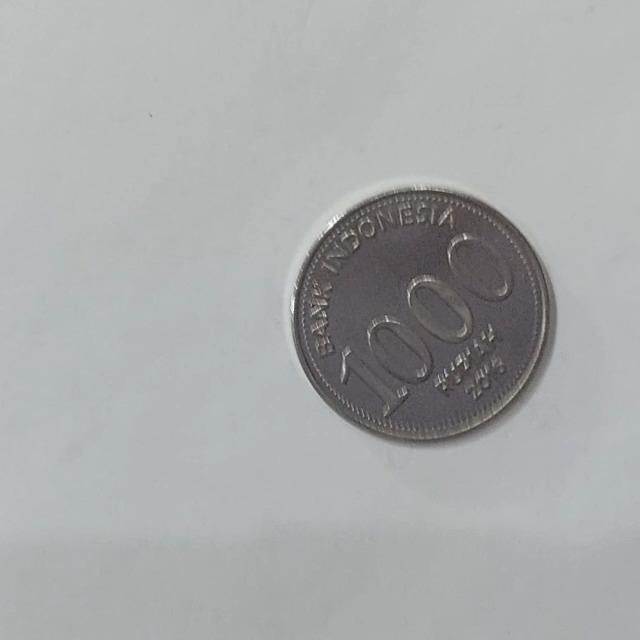Rp100: (289, 182, 555, 443)
